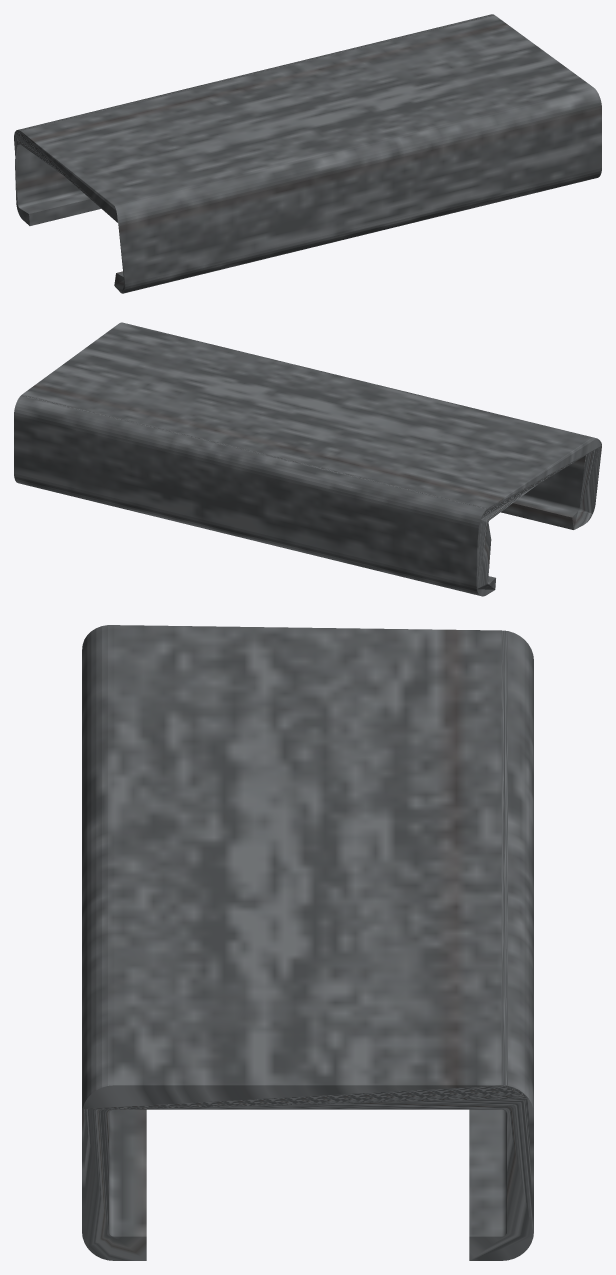
Rendered from right.glb.
3 views of the same model, one above another, from view 1: azimuth 30°, elevation 25°; view 2: azimuth 150°, elevation 25°; view 3: azimuth 270°, elevation 25° (orthographic). The views are drawn at different scales.
Visible parts, largest first — view 1: seat_rail_right; view 2: seat_rail_right; view 3: seat_rail_right.
Boxes of the visible parts, <box> form: seat_rail_right: <box>14,14,601,293</box>; seat_rail_right: <box>14,322,601,596</box>; seat_rail_right: <box>82,625,533,1260</box>.
Bounding box in the file's own units: 0.102 × 0.018 × 0.042.
Materials: 1 (1 with a texture image).
